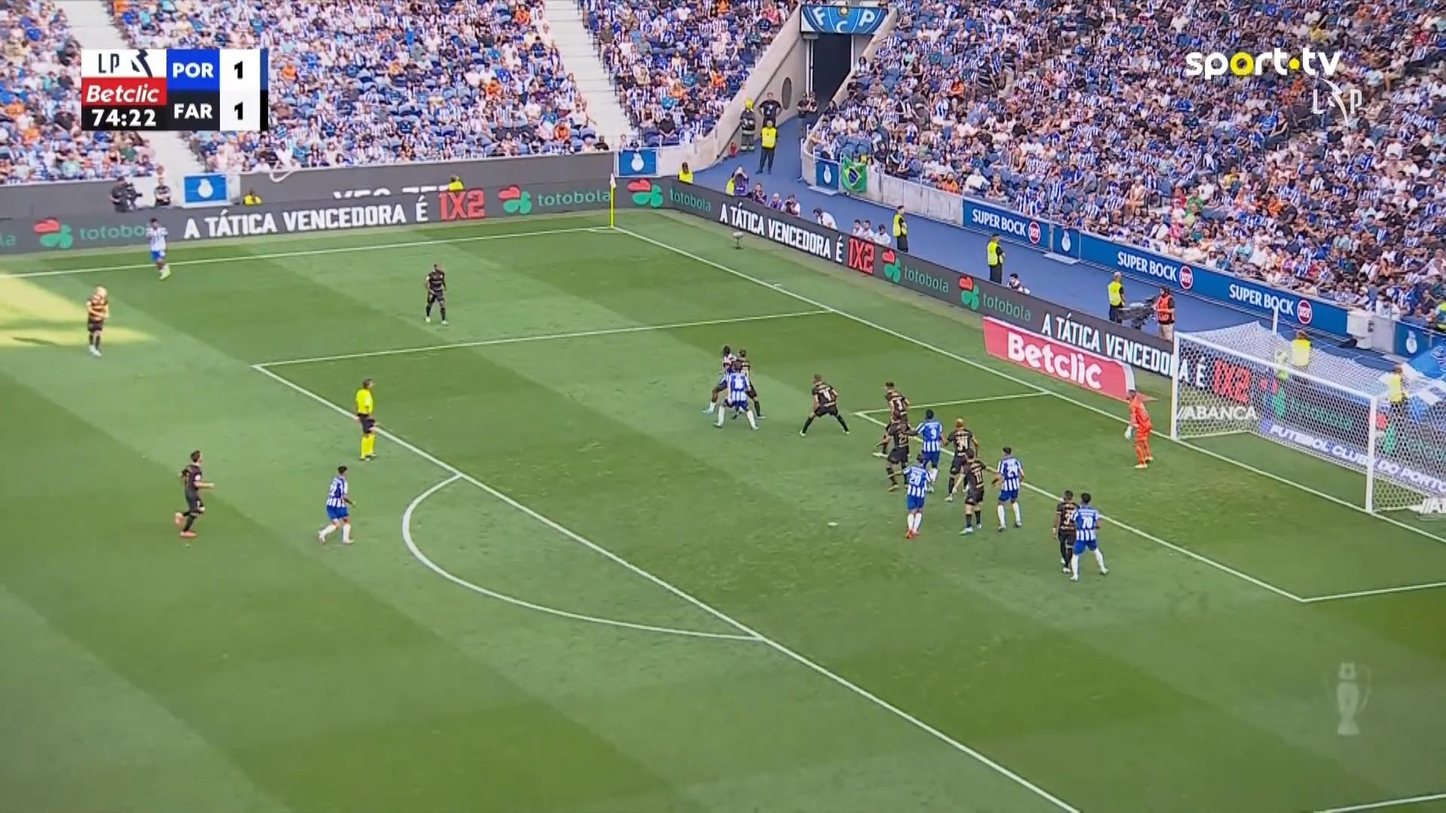goalkeeper: (1124, 388, 1155, 468)
player: (172, 449, 215, 537), (1067, 491, 1109, 581), (954, 455, 997, 534), (798, 372, 850, 437), (316, 464, 355, 544), (714, 361, 759, 430), (942, 416, 978, 501), (872, 380, 911, 458), (990, 445, 1024, 531), (911, 408, 944, 492), (901, 452, 932, 538), (732, 349, 767, 419), (702, 346, 737, 415), (1051, 489, 1078, 574), (884, 419, 911, 491), (85, 284, 109, 357), (423, 262, 449, 325), (145, 216, 170, 279)
referee: (354, 377, 379, 461)
